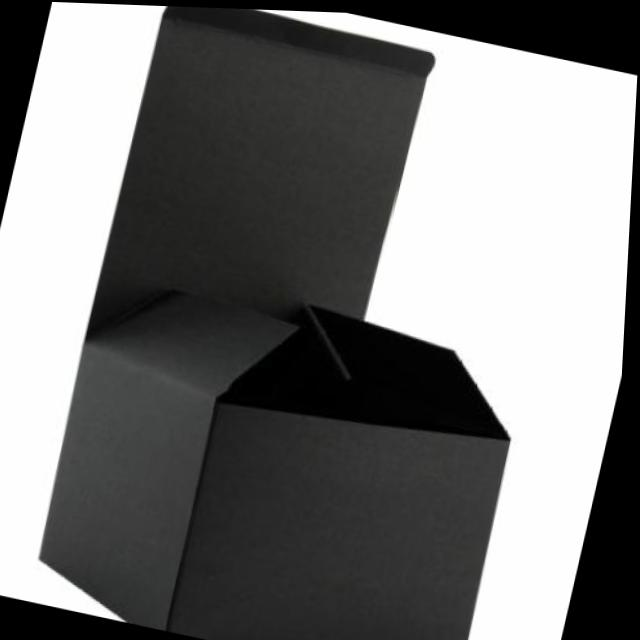box: (20, 1, 615, 640)
